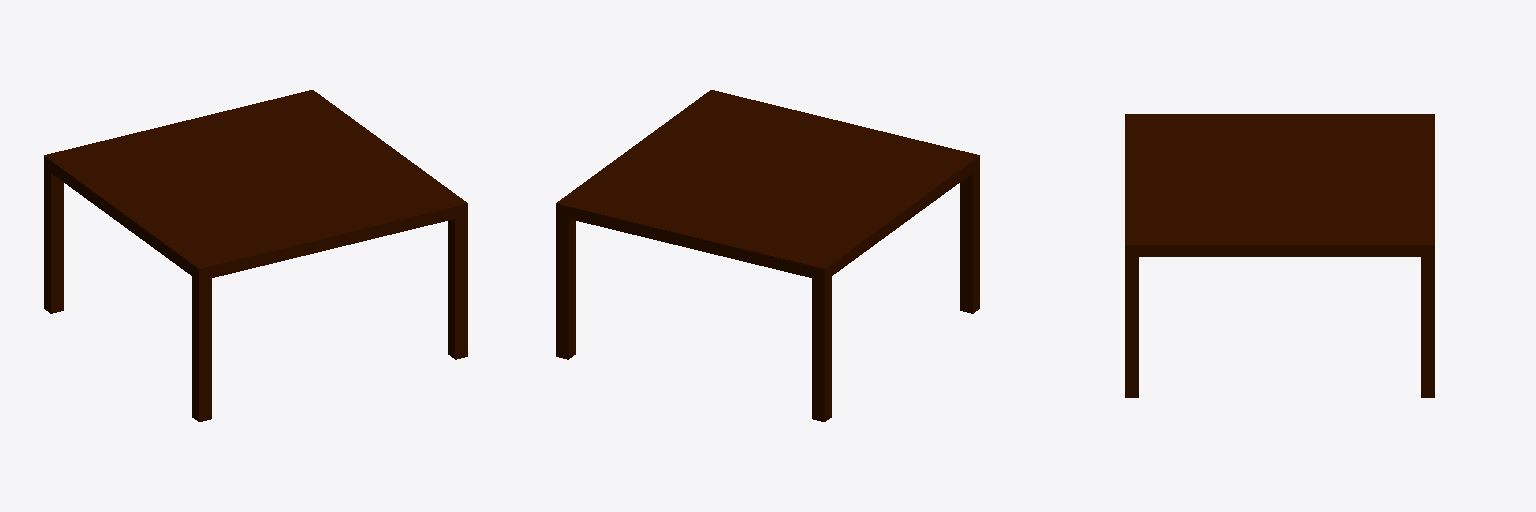
File: Table.obj
The picture shows the model from 3 angles: view 1: azimuth 30°, elevation 25°; view 2: azimuth 150°, elevation 25°; view 3: azimuth 270°, elevation 25°; orthographic projection.
Visible parts, largest first — view 1: Cube; view 2: Cube; view 3: Cube.
Part boxes in pixels (x1,y1,x2,y2): Cube: (44,90,467,421); Cube: (556,90,979,421); Cube: (1125,114,1434,397).
Bounding box in the file's own units: 30 × 16.31 × 30.